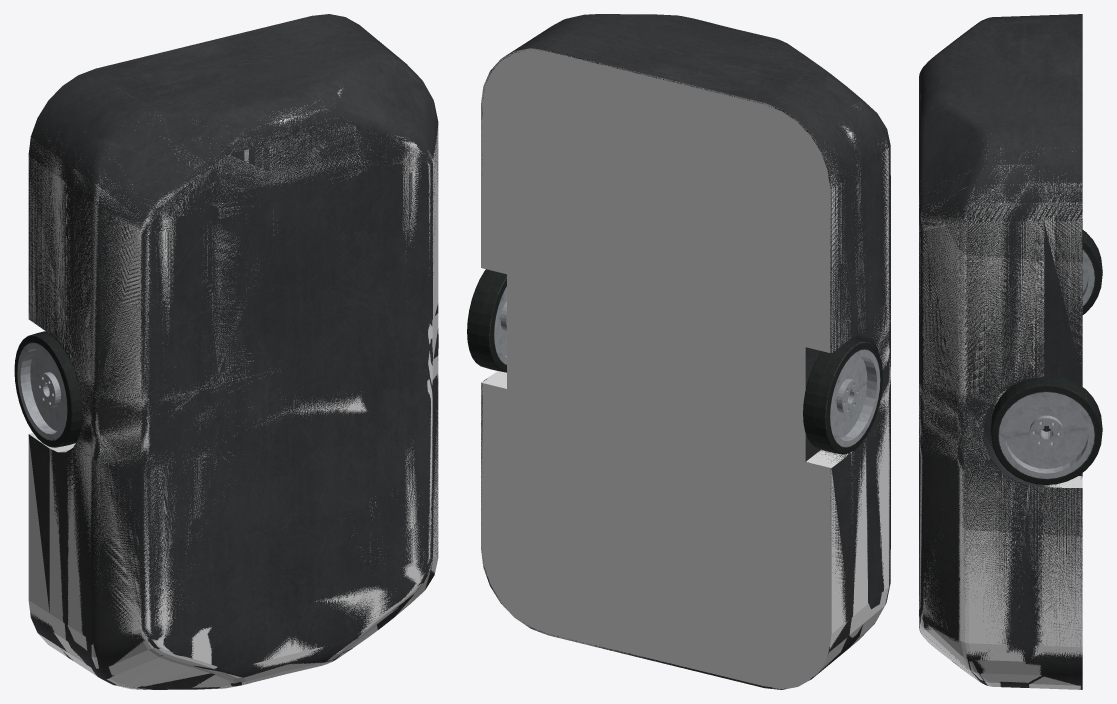
File: AMR100_LP.gltf
3 renders of one model, left to right at view 1: azimuth 30°, elevation 25°; view 2: azimuth 150°, elevation 25°; view 3: azimuth 270°, elevation 25°, orthographic. The views are drawn at different scales.
Parts seen in each view (by area): view 1: Body, Body_collizion, Drive_wheel_R; view 2: Body_collizion, Body, Drive_wheel_R, Drive_wheel_L; view 3: Body, Body_collizion, Drive_wheel_L, Drive_wheel_R.
Part boxes in pixels (x1=…): Body: x1=28, y1=14, x2=438, y2=689; Body_collizion: x1=28, y1=89, x2=438, y2=689; Drive_wheel_R: x1=14, y1=331, x2=82, y2=447; Body_collizion: x1=481, y1=48, x2=890, y2=689; Body: x1=481, y1=14, x2=890, y2=689; Drive_wheel_R: x1=803, y1=338, x2=882, y2=454; Drive_wheel_L: x1=467, y1=269, x2=506, y2=372; Body: x1=919, y1=14, x2=1082, y2=689; Body_collizion: x1=919, y1=148, x2=1082, y2=689; Drive_wheel_L: x1=990, y1=377, x2=1102, y2=484; Drive_wheel_R: x1=1082, y1=230, x2=1102, y2=314.
Size of what is drawn, in the model's own units: 0.445 by 0.6907 by 0.2049.
Materials: 2 (2 with a texture image).
